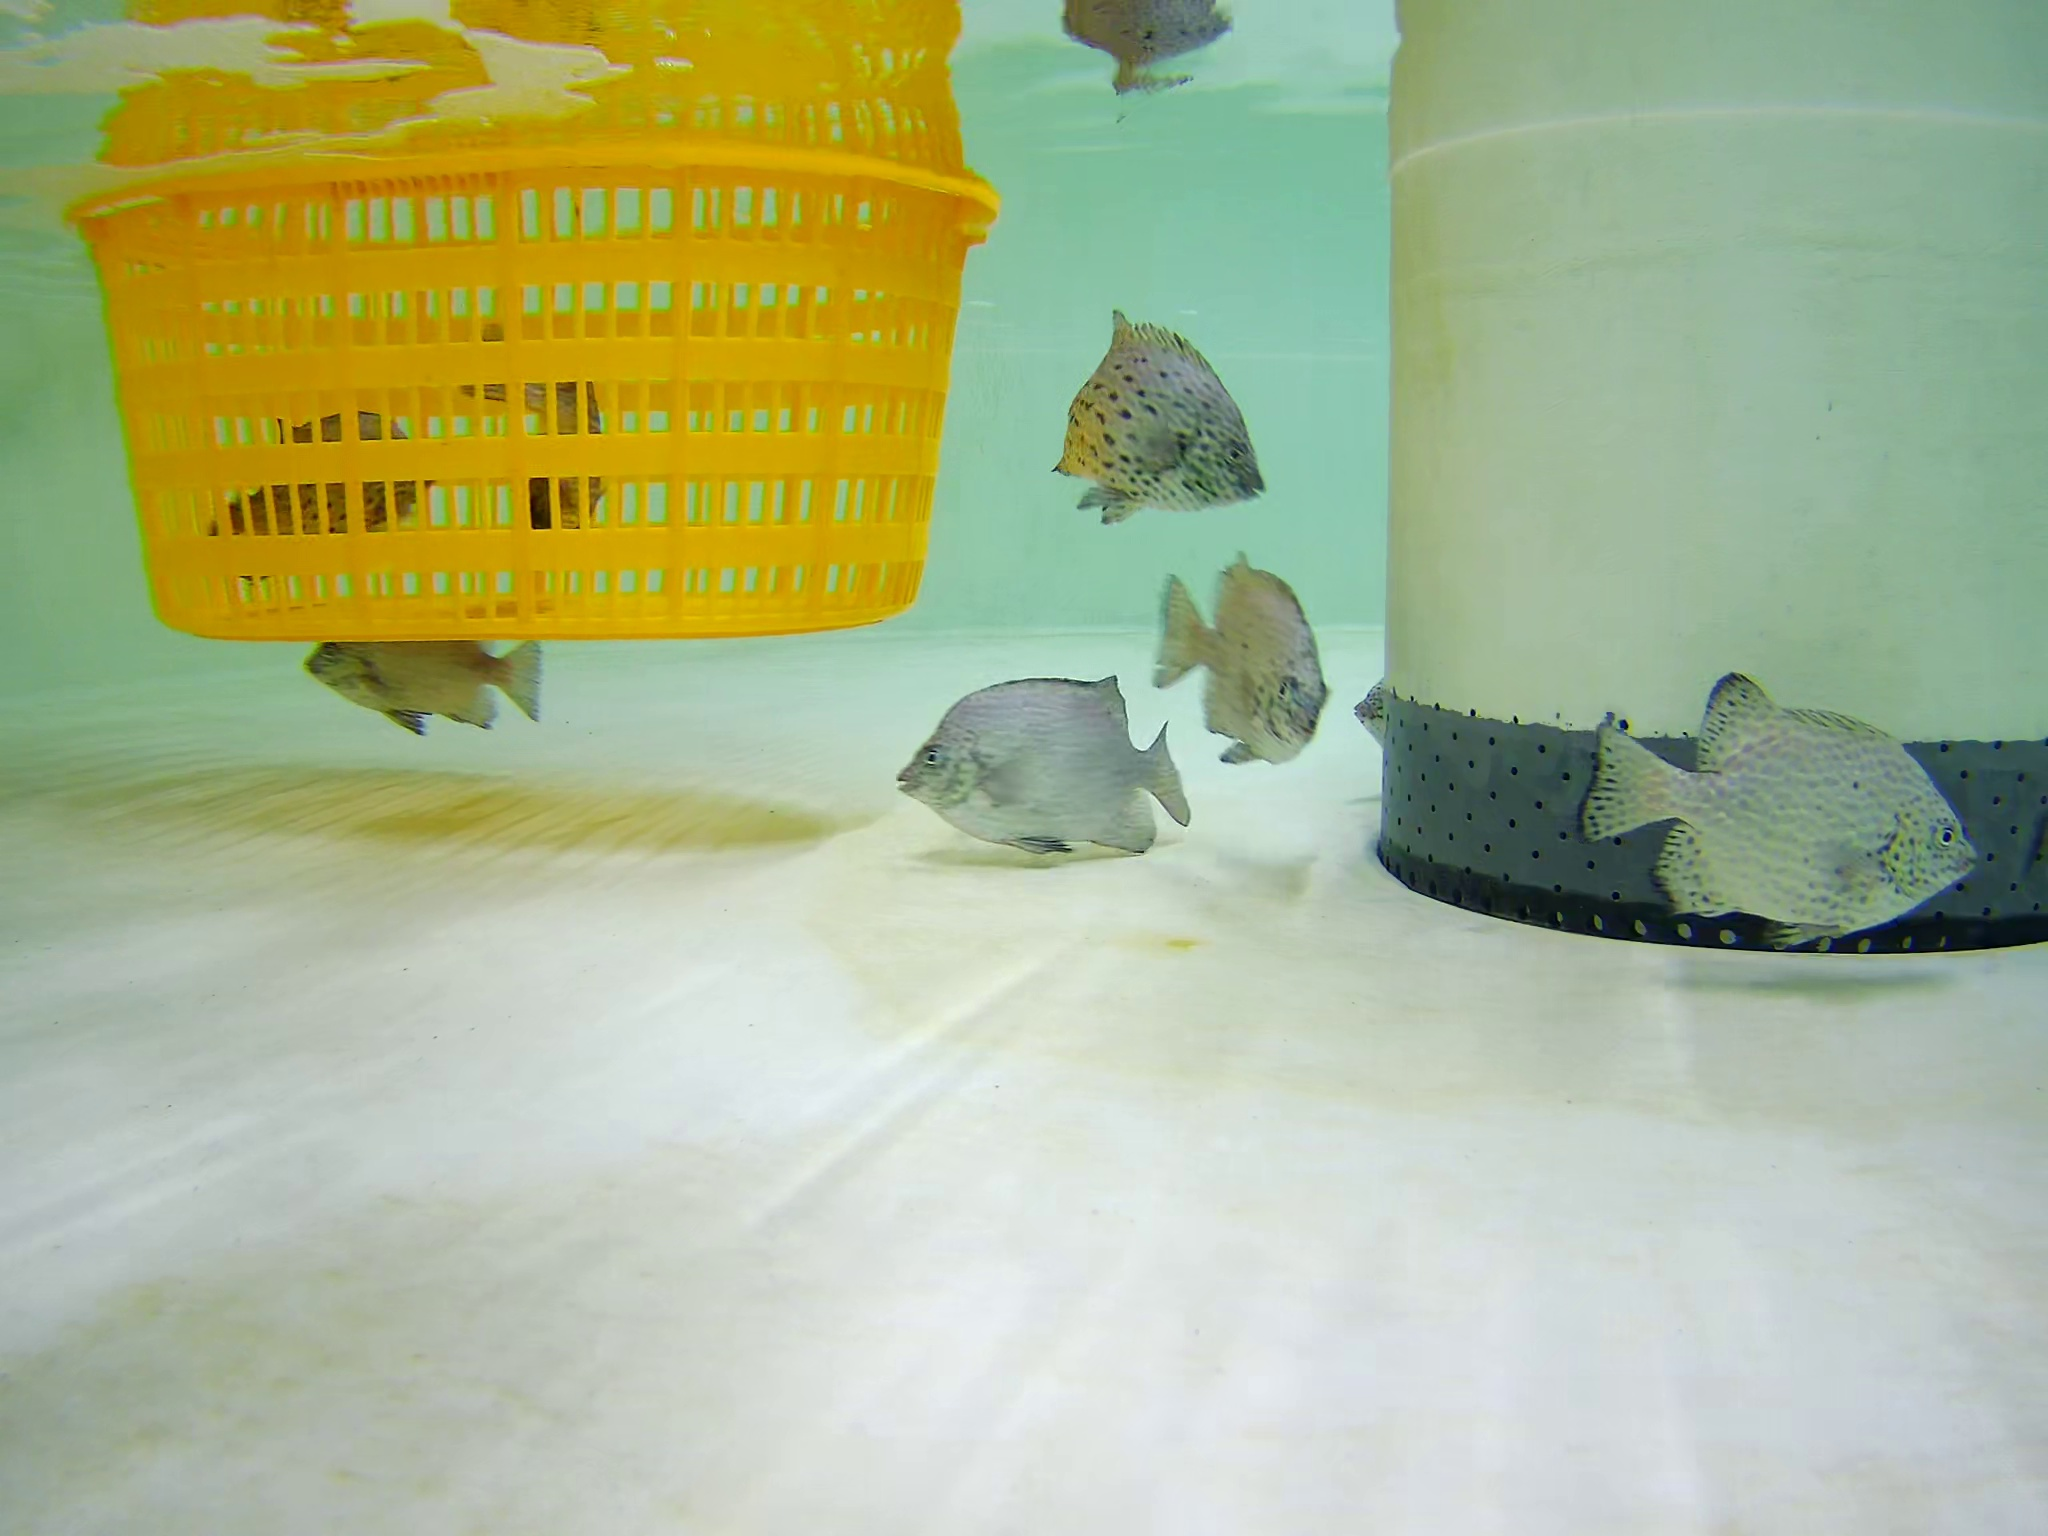fish: (1580, 681, 1982, 958), (887, 670, 1201, 866), (1061, 307, 1271, 526), (471, 310, 616, 560), (1158, 532, 1316, 762), (306, 587, 542, 739), (203, 408, 427, 565), (1353, 671, 1387, 734)
